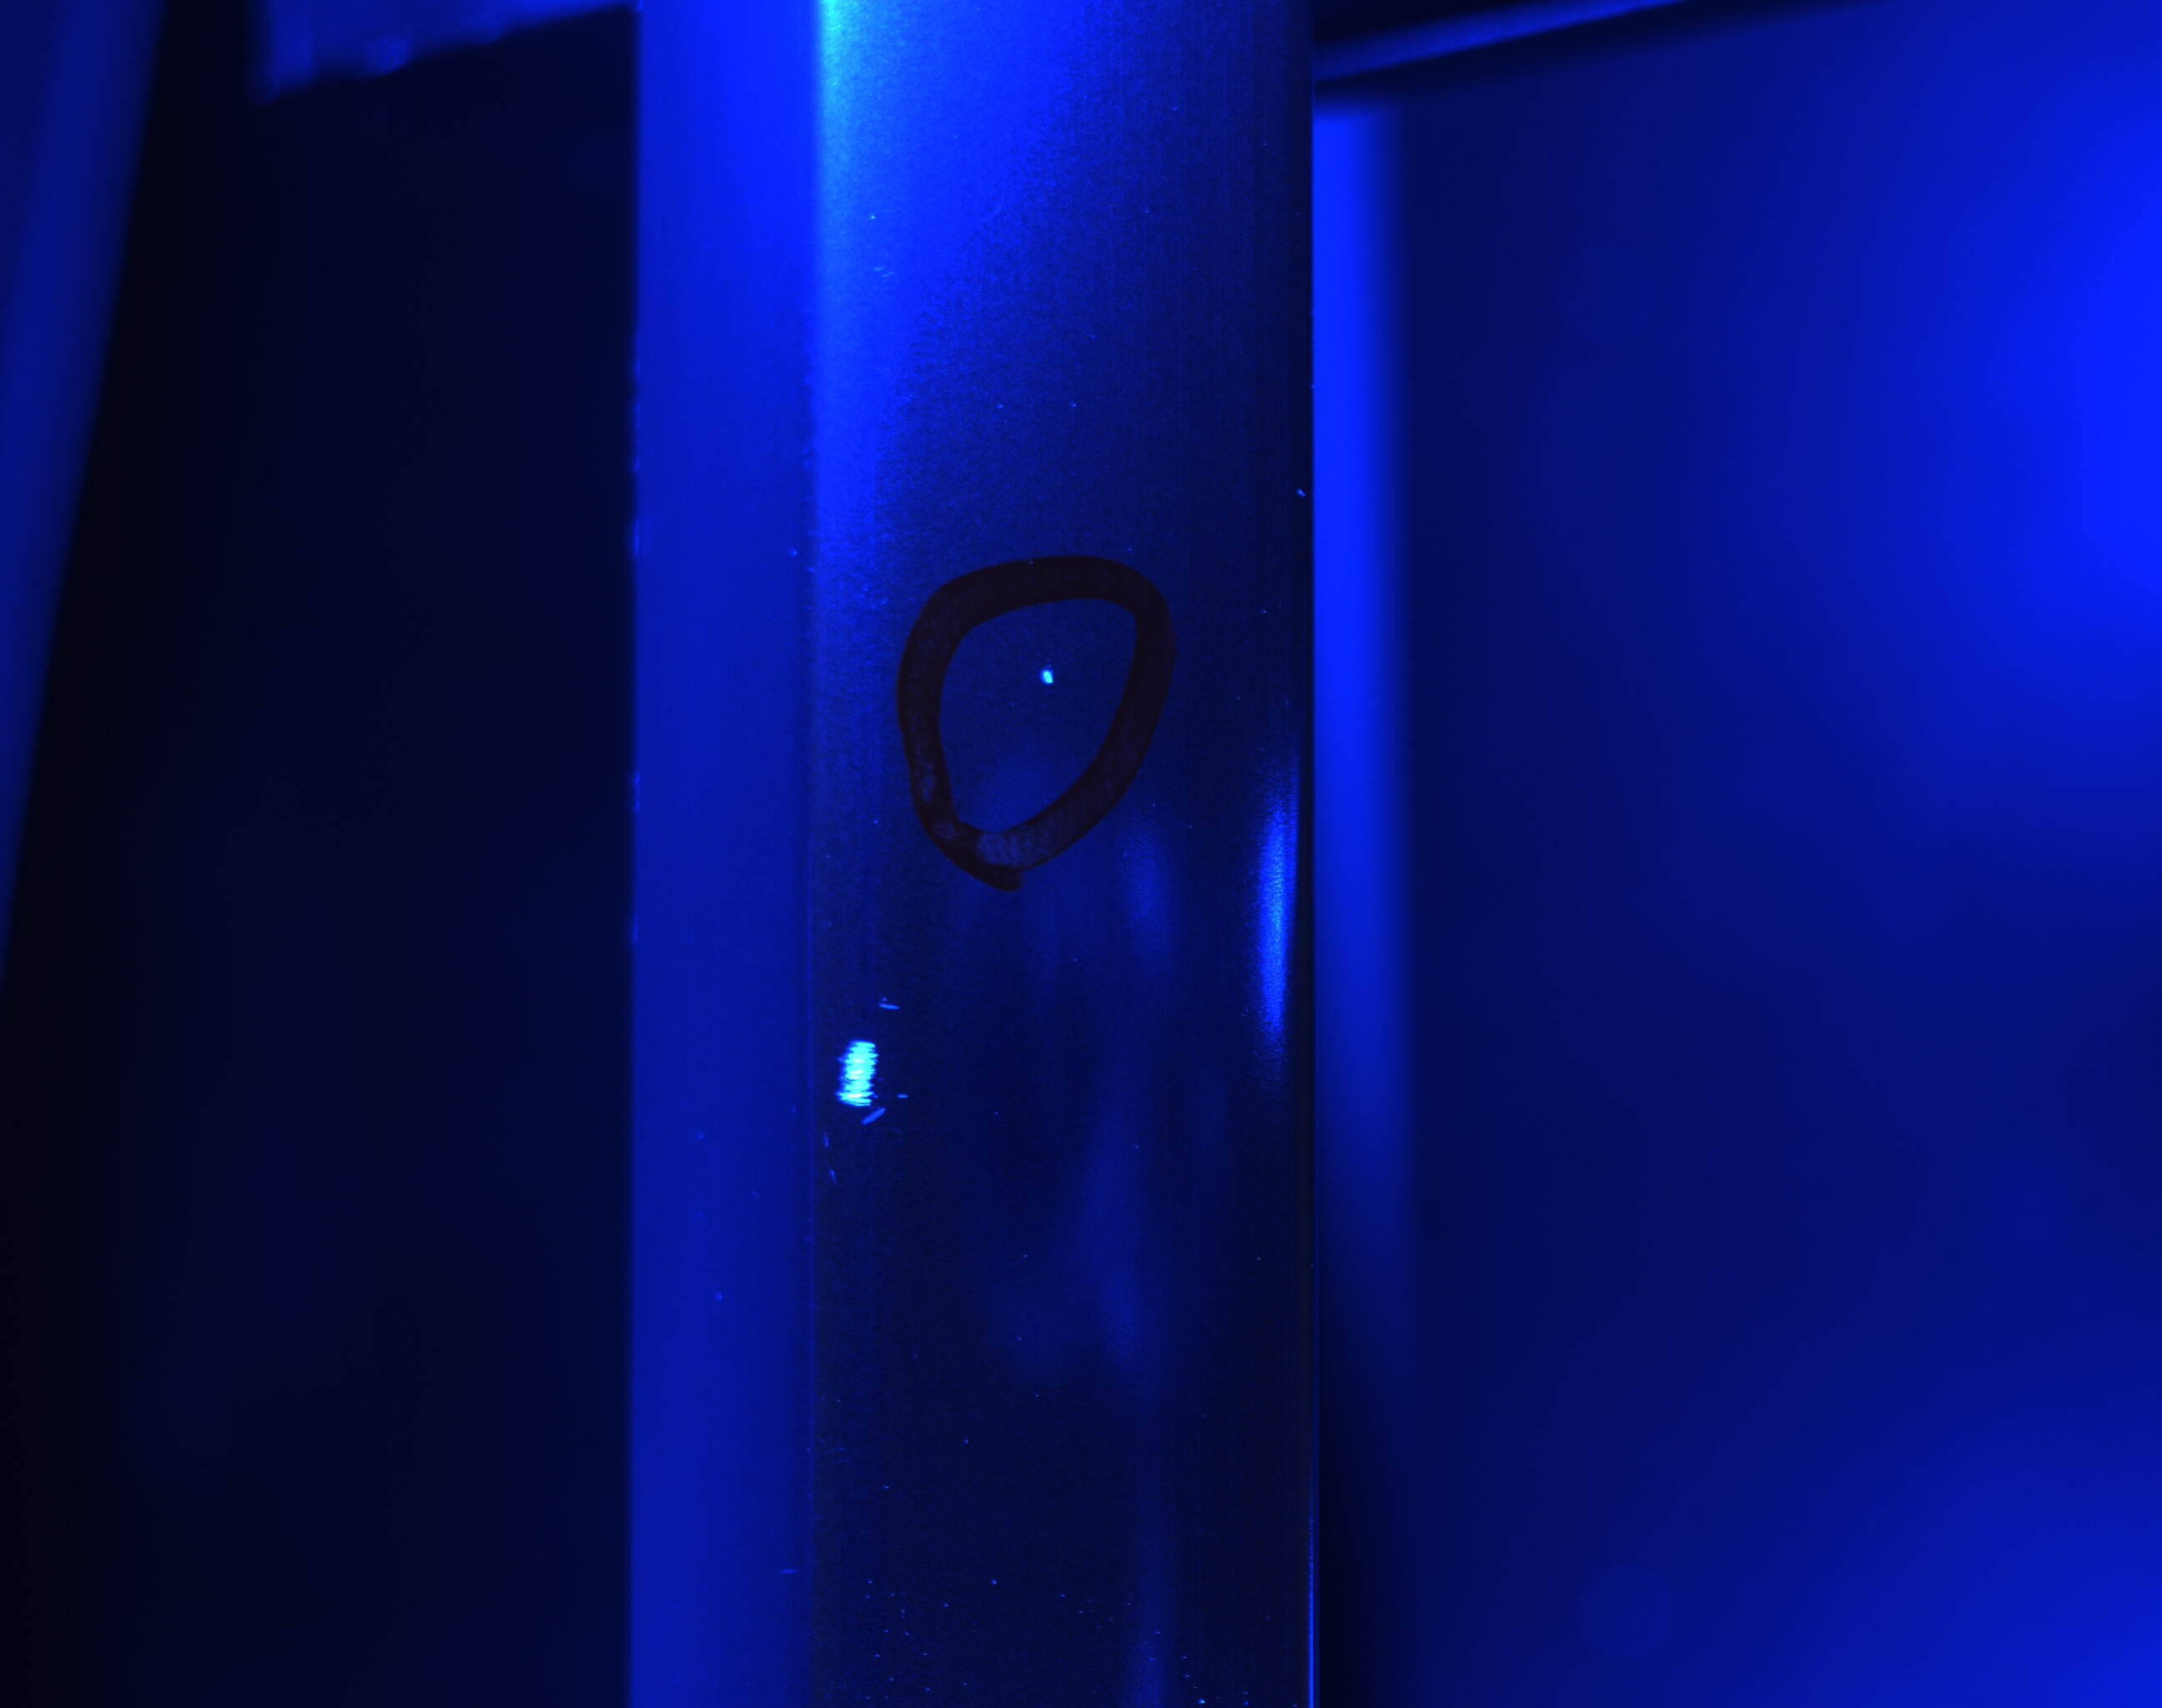NG: (820, 1006, 925, 1141), (1025, 642, 1072, 720)
